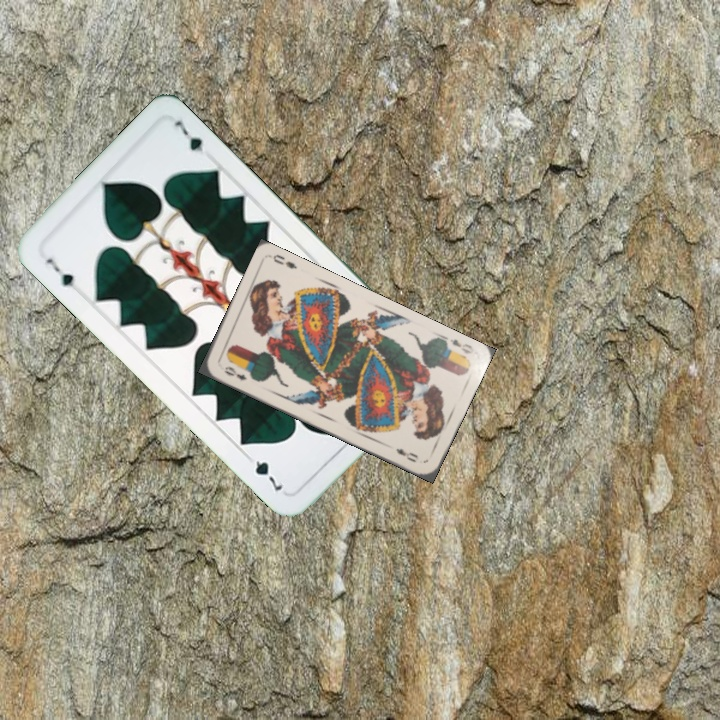EO: (438, 332, 477, 361), (220, 362, 249, 383)
G7: (41, 254, 77, 290)
